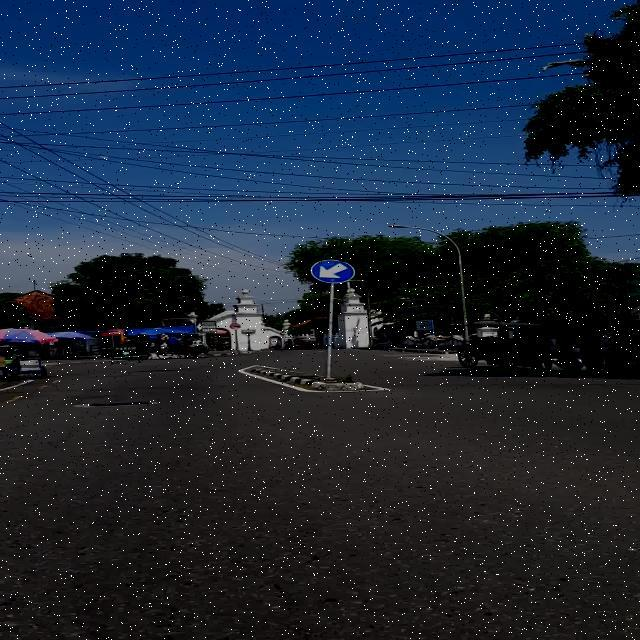Lajur Kiri: (310, 260, 356, 284)
